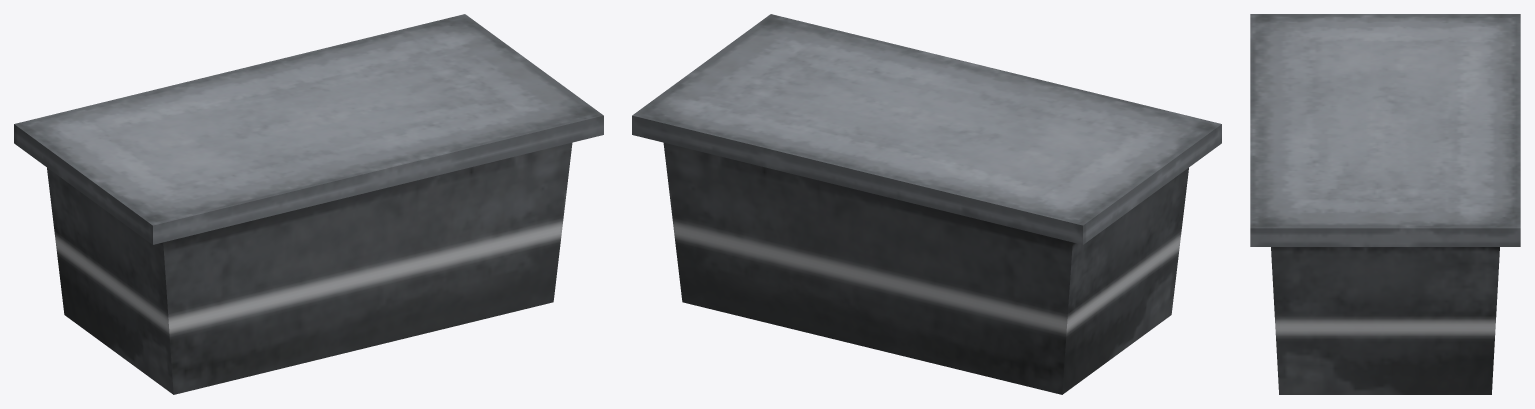
File: MESH_MESALAB.fbx
The picture shows the model from 3 angles, left to right: view 1: azimuth 30°, elevation 25°; view 2: azimuth 150°, elevation 25°; view 3: azimuth 270°, elevation 25°; orthographic projection. The views are drawn at different scales.
Parts seen in each view (by area): view 1: MESH_MESALAB; view 2: MESH_MESALAB; view 3: MESH_MESALAB.
Part boxes in pixels (box(x1,y1,x2,y2)): MESH_MESALAB: box(14, 14, 603, 394); MESH_MESALAB: box(632, 14, 1221, 394); MESH_MESALAB: box(1250, 14, 1520, 394).
Size of the model in its own units: 2.5 by 1 by 1.33.
